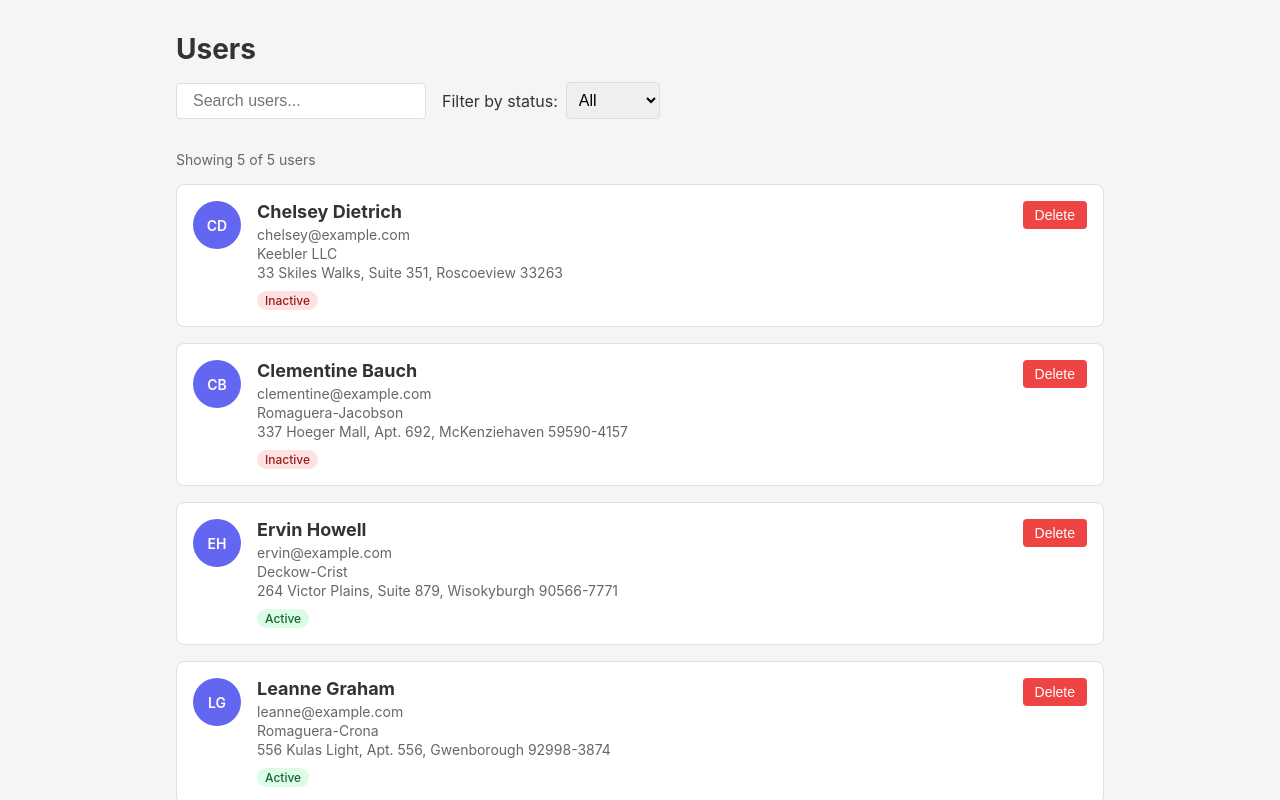
Scenario: UsersPage › shows empty state when no users match
Check: the heading "Leanne Graham" is shown, box [257,678,395,699]
Type "nonexistentuserxyz" into the search field labelled "Search users" at [301, 100], box [176,82,426,118]
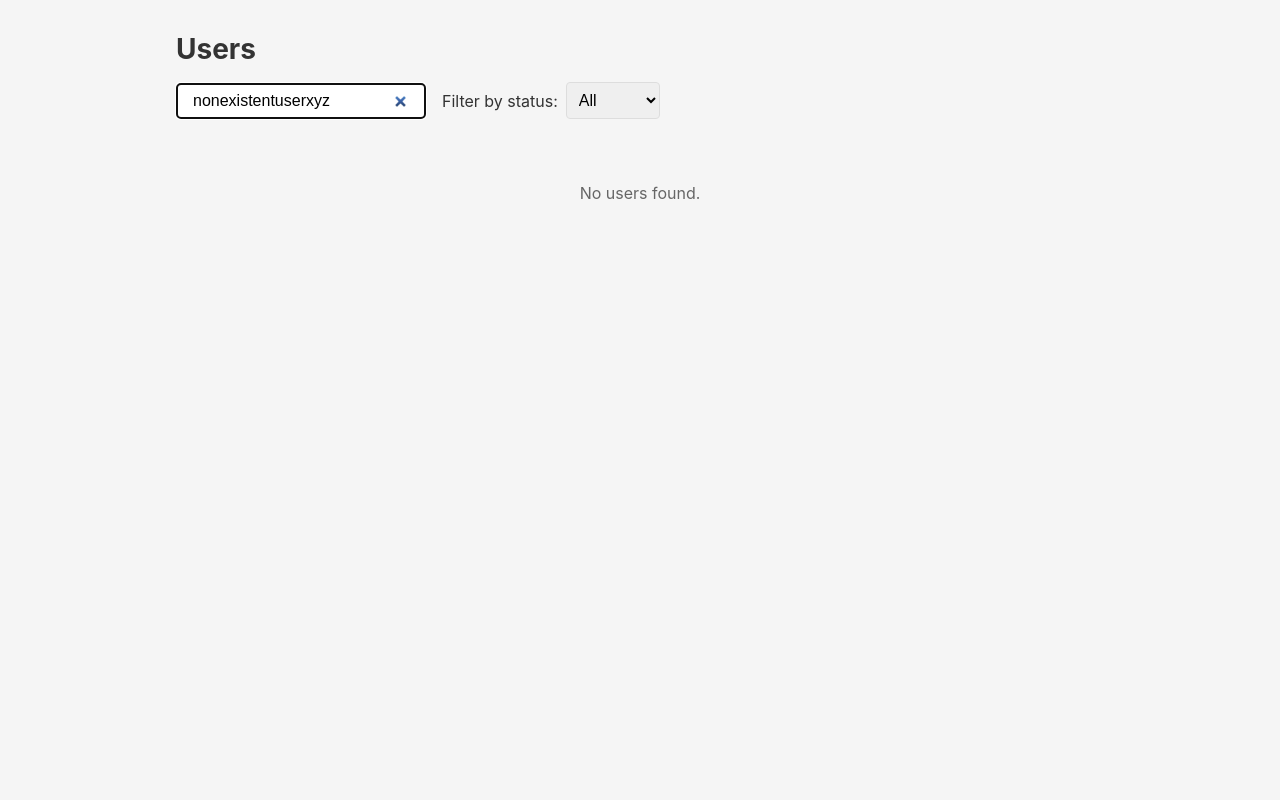
Check: the text "No users found." is shown, box [580,183,700,203]
